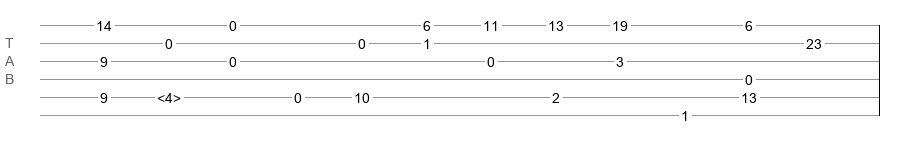0: (165, 36, 173, 46), (229, 54, 237, 64), (229, 18, 237, 28), (294, 90, 302, 100), (358, 36, 366, 46), (487, 54, 495, 64), (745, 72, 753, 82)
1: (423, 36, 431, 46), (681, 108, 689, 118)
10: (354, 90, 370, 100)
11: (483, 18, 499, 28)
13: (548, 18, 564, 28), (741, 90, 757, 100)
14: (96, 18, 112, 28)
19: (612, 18, 628, 28)
2: (552, 90, 560, 100)
23: (806, 36, 822, 46)
3: (616, 54, 624, 64)
6: (423, 18, 431, 28), (745, 18, 753, 28)
9: (100, 54, 108, 64), (100, 90, 108, 100)
harmonic: (157, 90, 181, 100)
